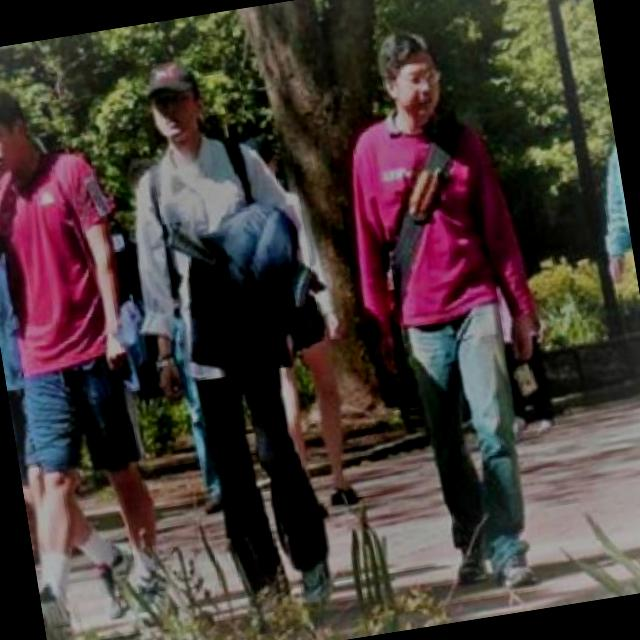Person: (102, 40, 373, 629), (321, 13, 563, 603), (0, 73, 175, 640)
